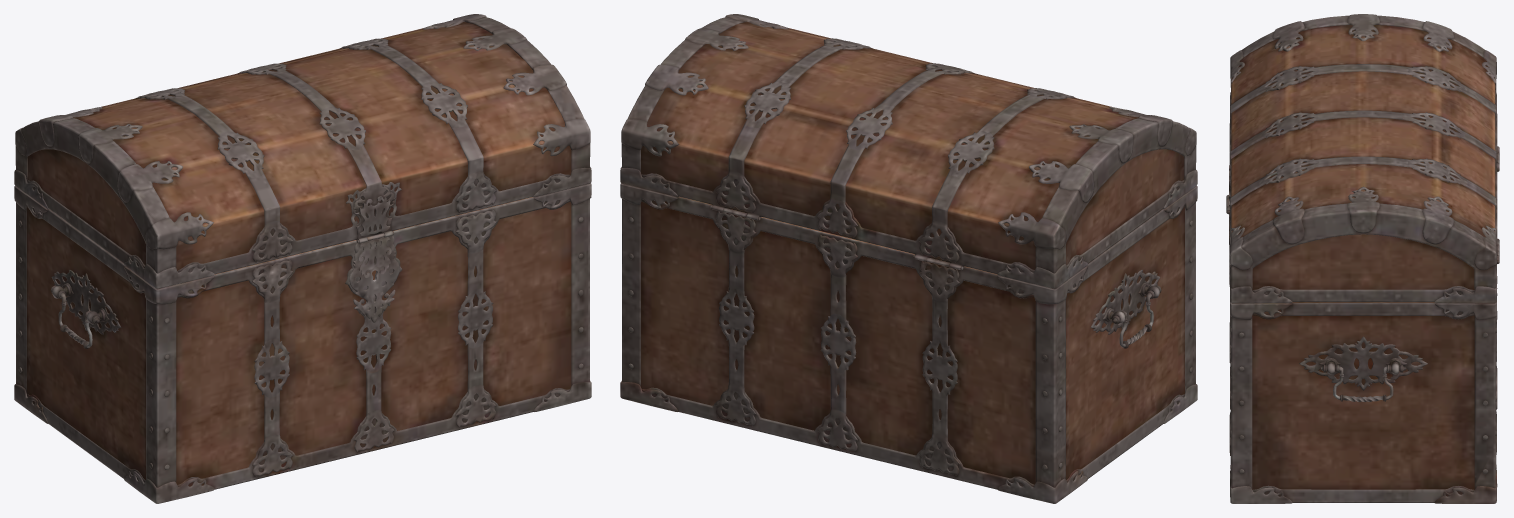
The model's file is treasure_chest.glb.
3 renders of one model, left to right at view 1: azimuth 30°, elevation 25°; view 2: azimuth 150°, elevation 25°; view 3: azimuth 270°, elevation 25°, orthographic. The views are drawn at different scales.
Parts seen in each view (by area): view 1: treasure_chest_bottom; view 2: treasure_chest_bottom; view 3: treasure_chest_bottom.
Part boxes in pixels (x1=…): treasure_chest_bottom: x1=14, y1=14, x2=591, y2=503; treasure_chest_bottom: x1=620, y1=14, x2=1197, y2=503; treasure_chest_bottom: x1=1226, y1=14, x2=1499, y2=503.
Size of the model in its own units: 0.959 by 0.619 by 0.5229.
Materials: 1 (1 with a texture image).
